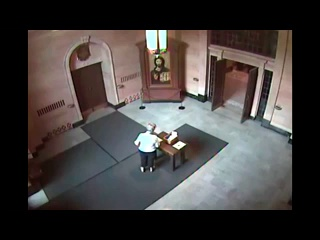Vandalism: (133, 129, 160, 173)
